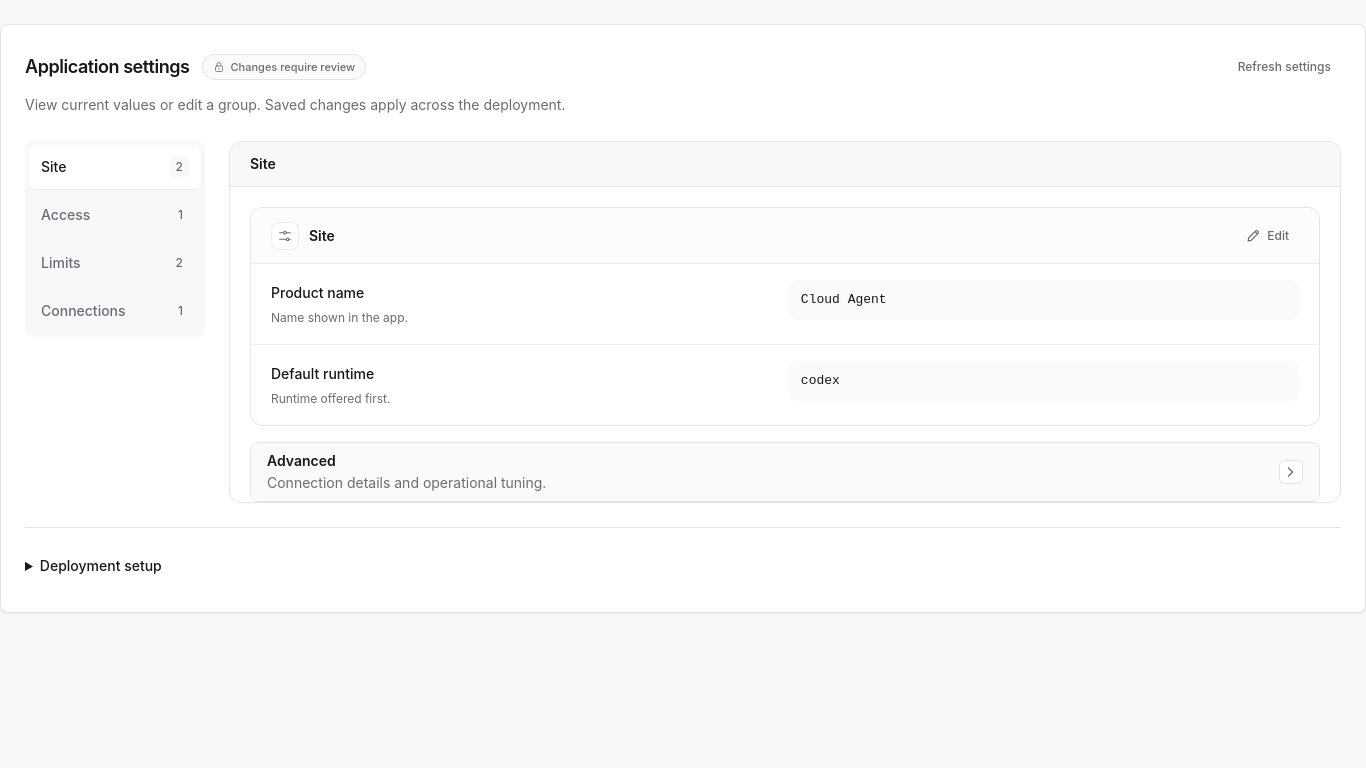
Test: application settings › confirms clearing a configured secret and sends null only after approval
The width and height of the screenshot is (1366, 768).
Expected: the text named "Product name" is shown, [789, 280, 1299, 320]
Click the button "Connections 1".
click(115, 311)  # box [29, 289, 201, 333]
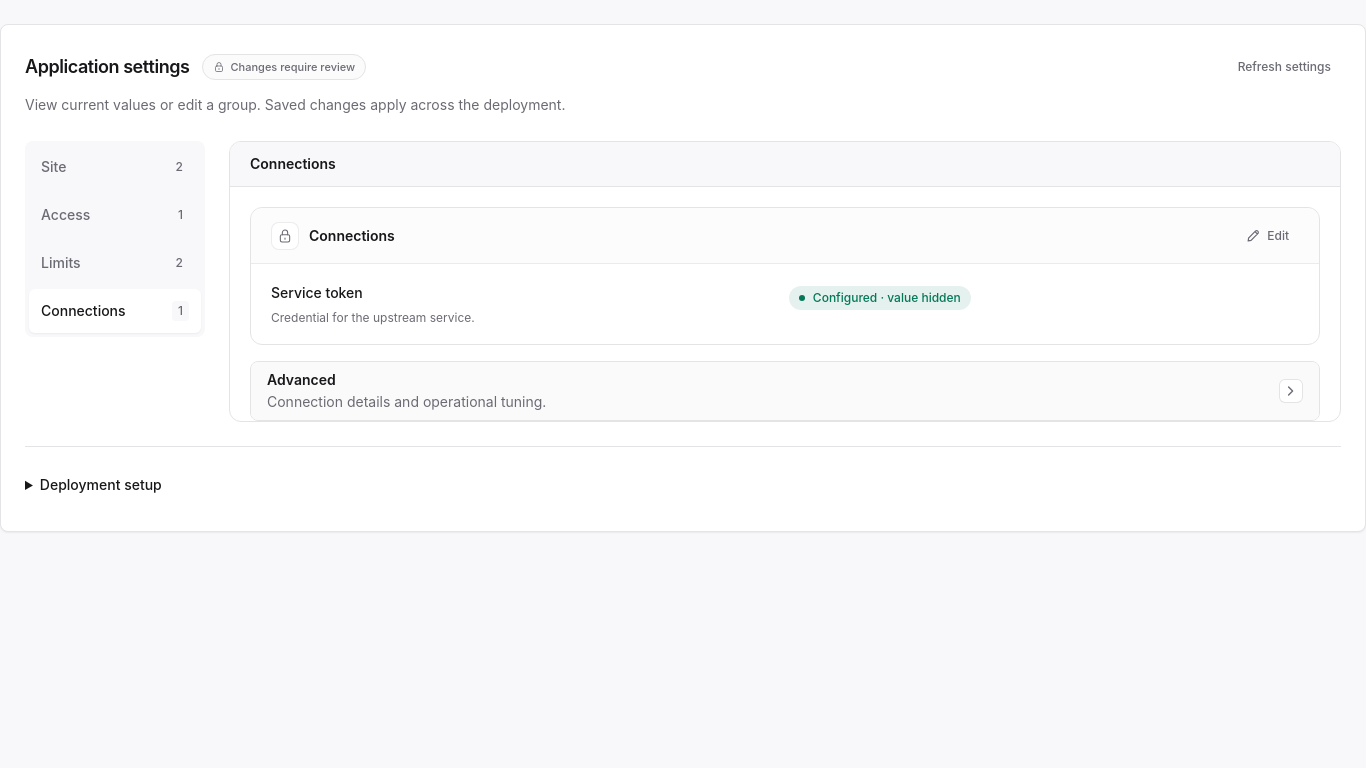
Click the button with aria-label "Edit Connections settings".
click(1267, 236)  # box [1235, 218, 1299, 254]
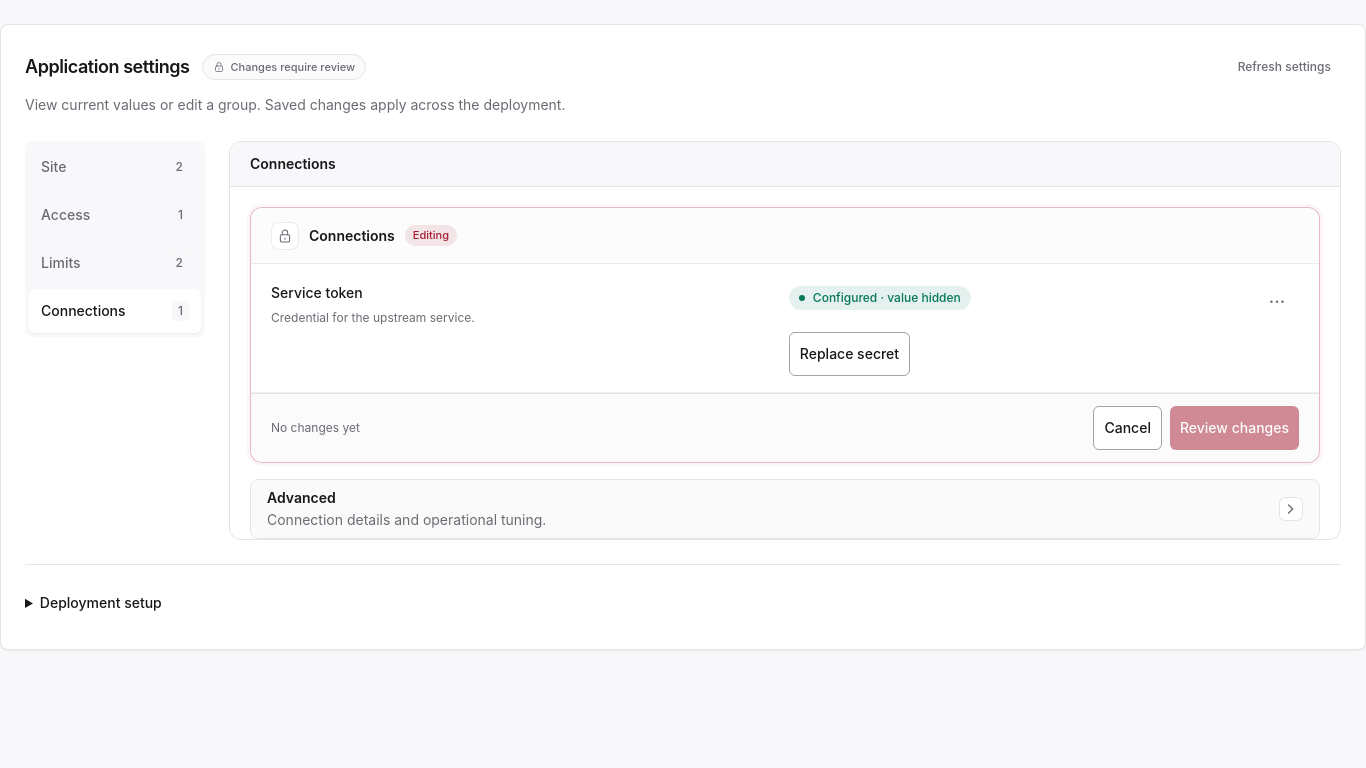
Click the heading named "More actions for Service token".
click(1277, 302)  # box [1269, 291, 1285, 312]
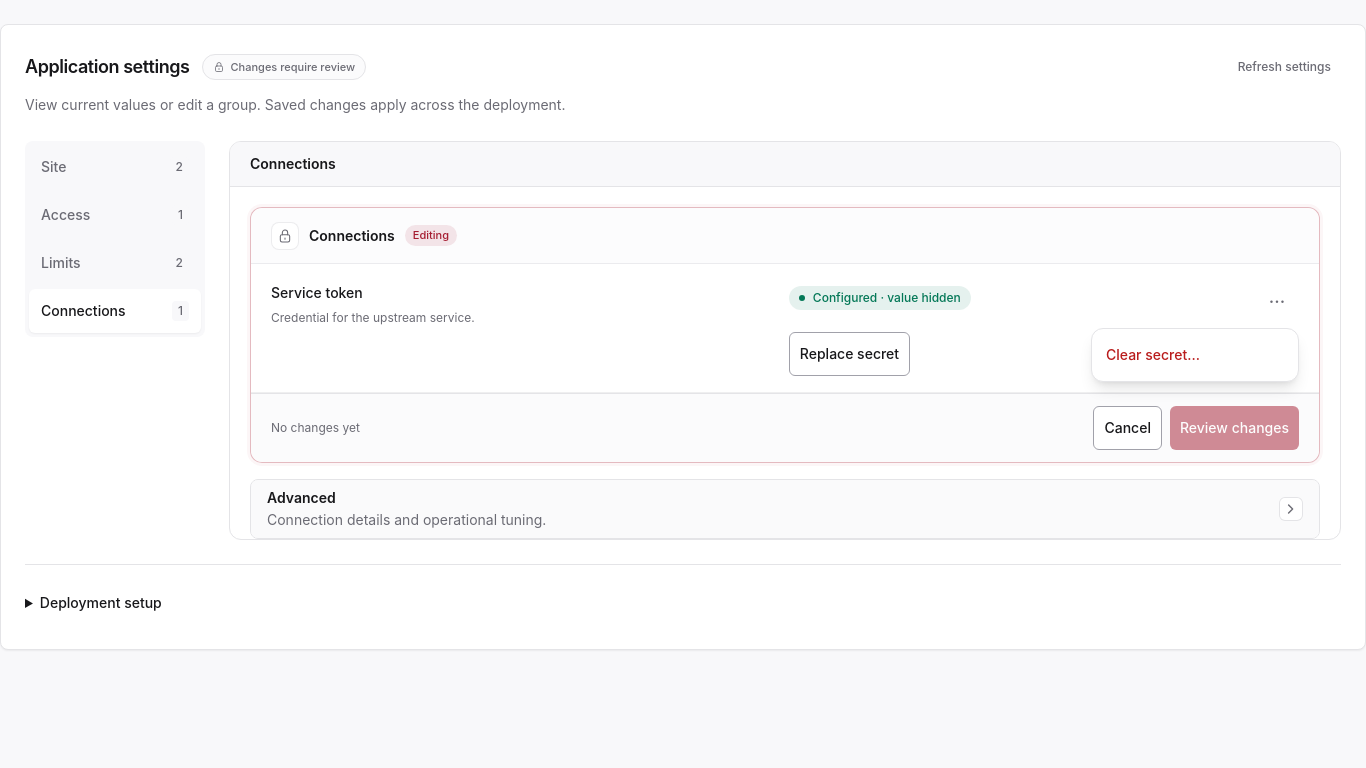
Click the button with aria-label "Clear Service token".
click(1195, 355)  # box [1096, 333, 1294, 377]
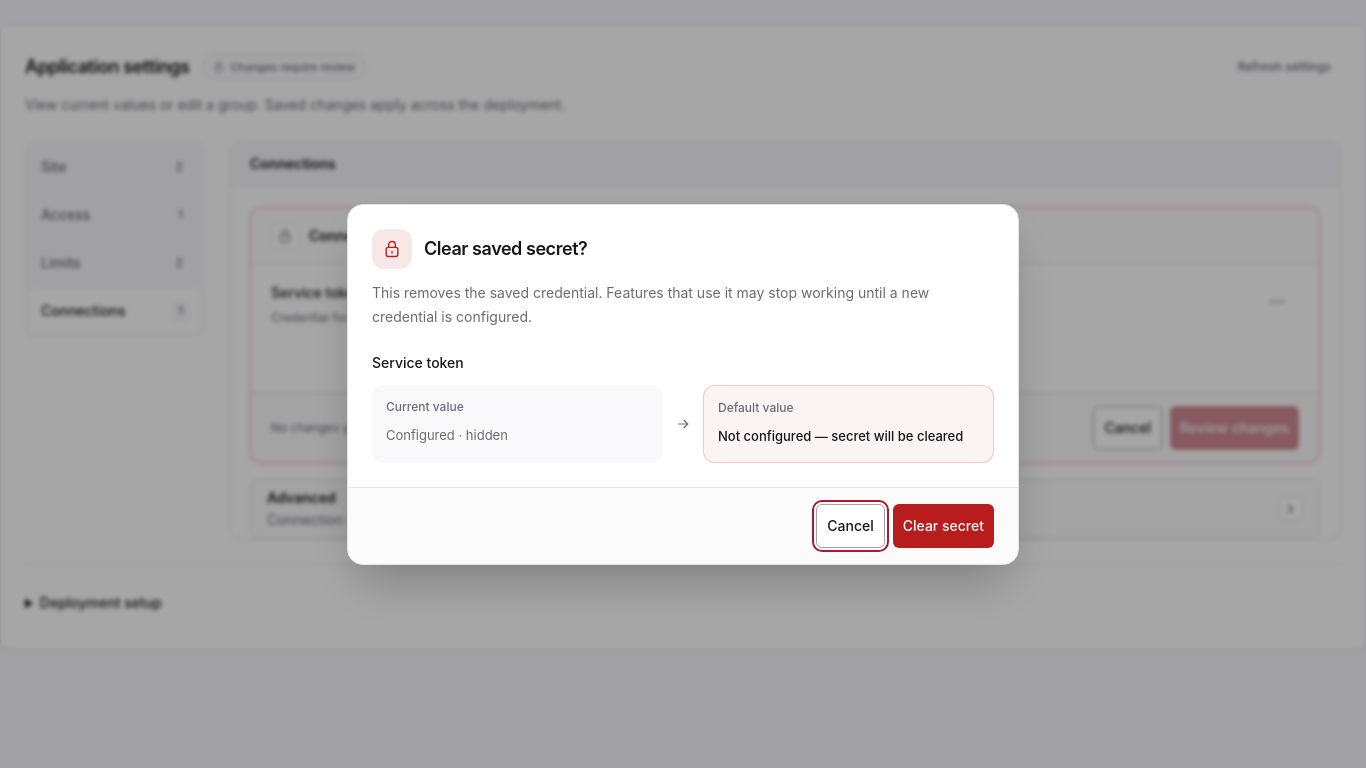
Result: the dialog "Clear saved secret?" shows "secret will be cleared" at [718, 428, 963, 444]
Result: the dialog "Clear saved secret?" shows "may stop working" at [372, 284, 929, 324]
Click the button "Clear secret".
click(943, 526)  # box [893, 504, 994, 548]
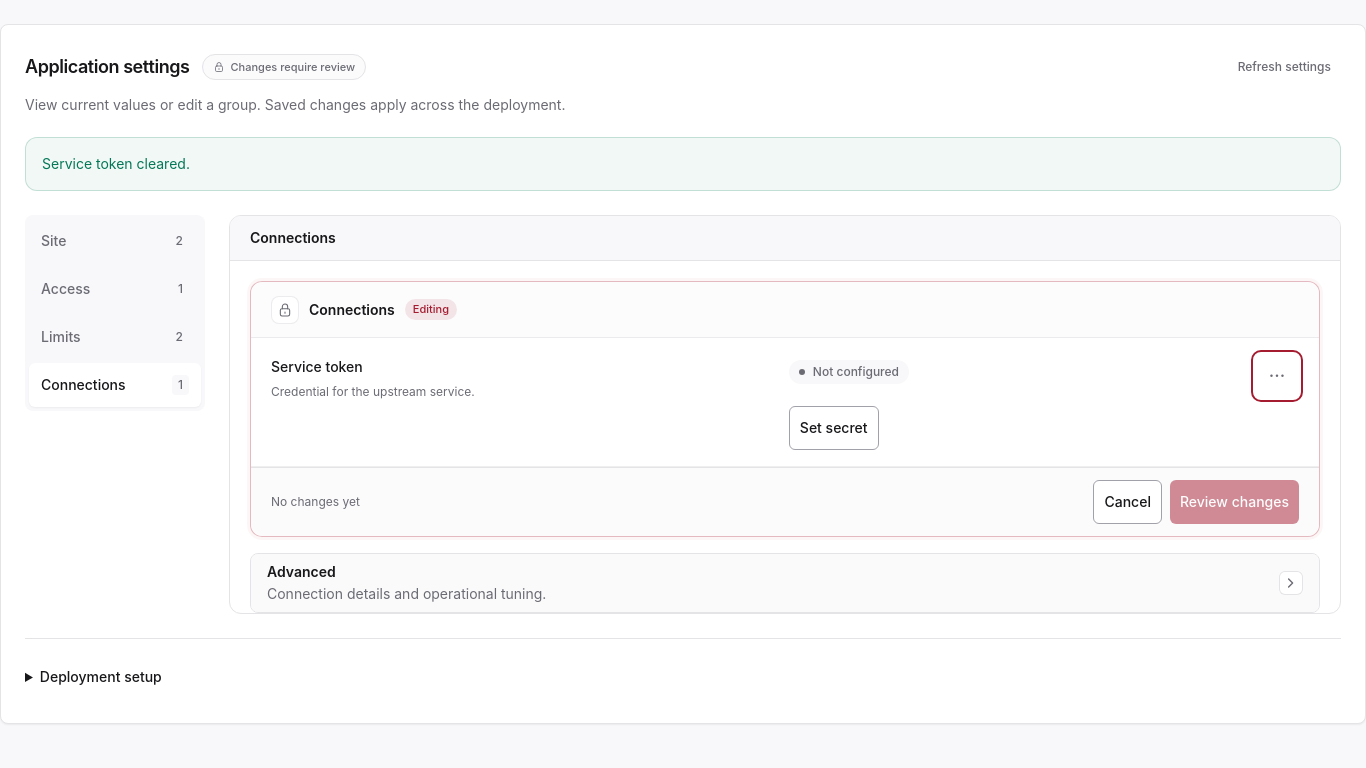
Result: the text "Service token cleared." is shown at [25, 137, 1341, 191]
Result: the element named "Service token" reads "Not configured" at [813, 364, 899, 379]
